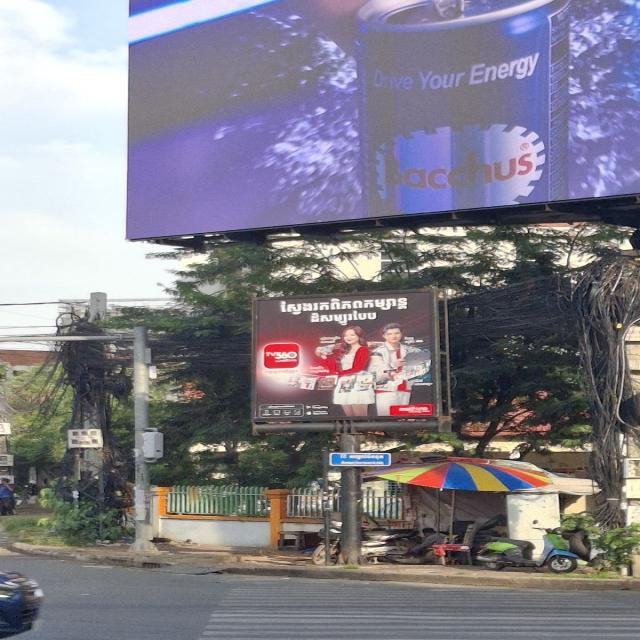Yolov11kh: (261, 292, 418, 317), (276, 308, 391, 328)
